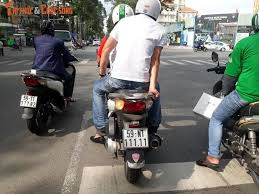Bien-so: (123, 127, 149, 149), (20, 94, 38, 108)
